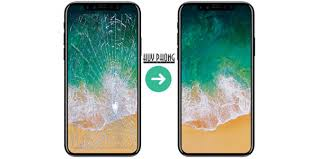iphone10: (175, 1, 255, 157), (64, 1, 144, 157)
